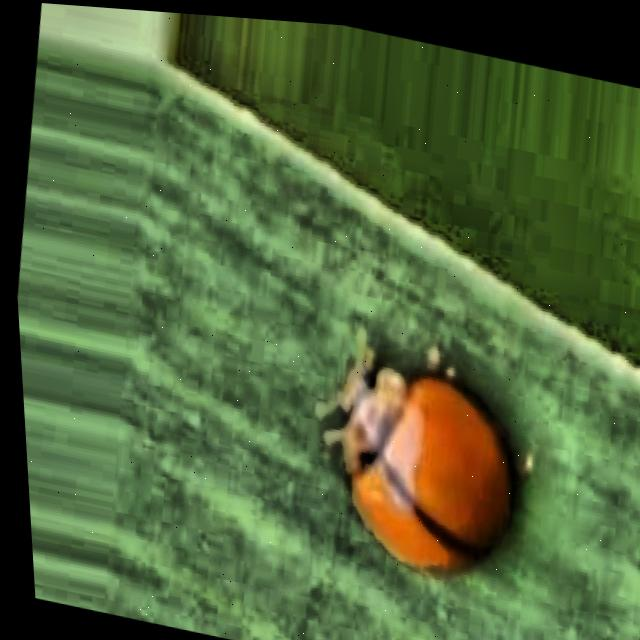Ladybug: (210, 211, 640, 640)
